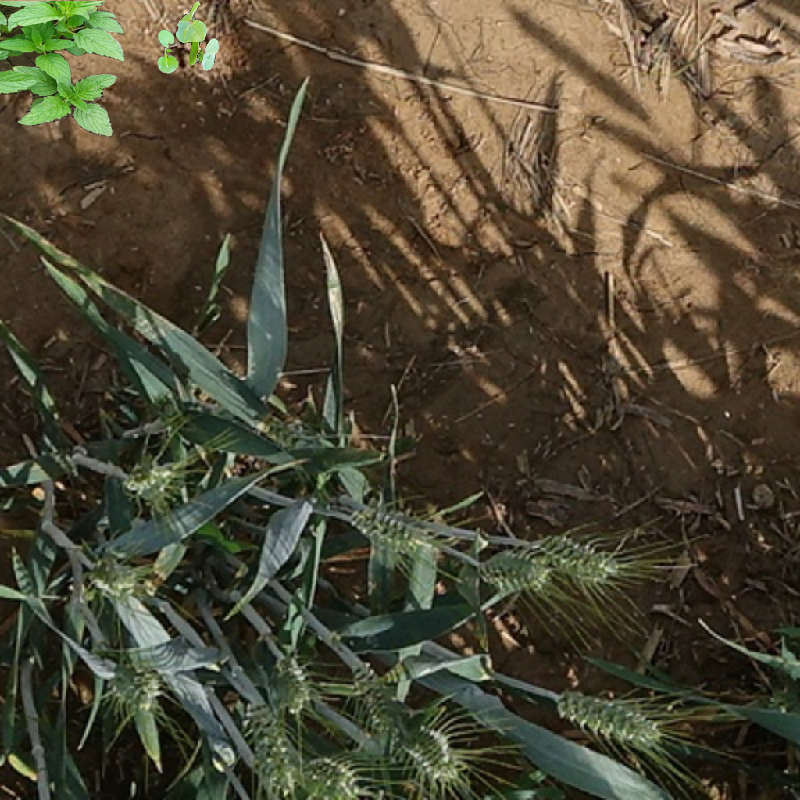spikelet: (558, 687, 669, 746), (389, 714, 468, 794), (241, 697, 305, 789), (523, 532, 631, 584), (346, 657, 399, 731), (478, 546, 552, 592), (350, 506, 421, 551), (267, 651, 317, 705), (102, 657, 153, 706), (303, 757, 359, 800), (126, 453, 177, 497), (85, 554, 133, 598), (250, 407, 298, 446)
weed: (1, 1, 125, 137), (176, 1, 220, 71), (157, 29, 179, 74)
